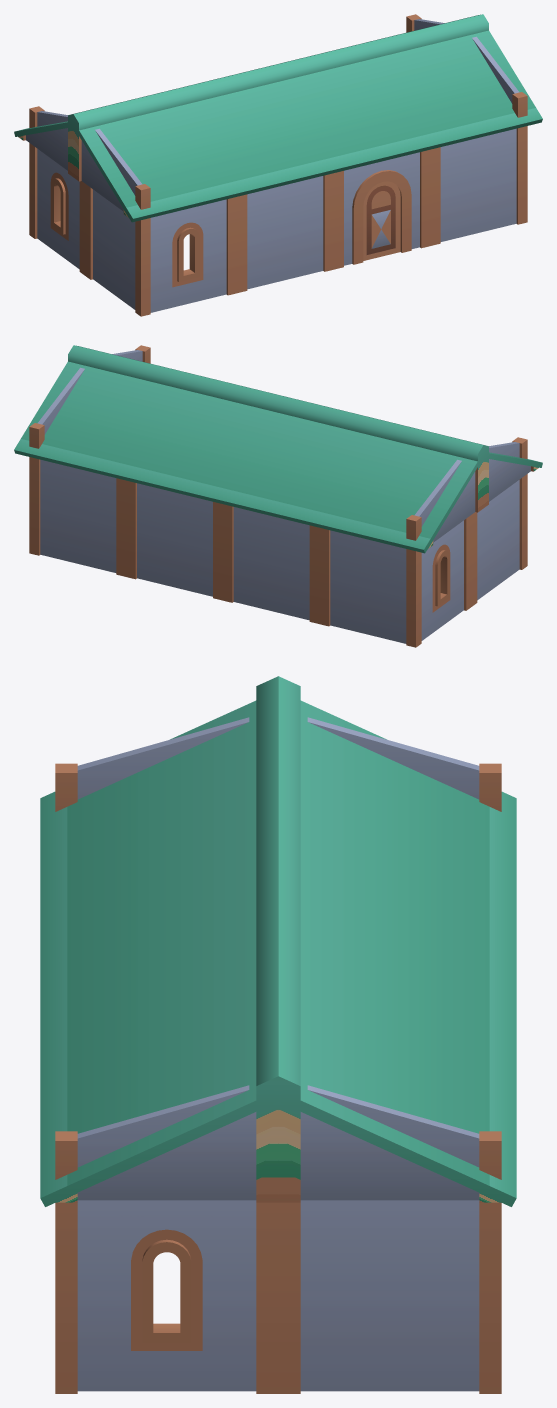
Rendered from maison-atlante-3.glb.
3 renders of one model, top to bottom at view 1: azimuth 30°, elevation 25°; view 2: azimuth 150°, elevation 25°; view 3: azimuth 270°, elevation 25°, orthographic. The views are drawn at different scales.
Visible parts, largest first — view 1: wall-window-round; view 2: wall-window-round; view 3: wall-window-round.
Boxes of the visible parts, x1=… form: wall-window-round: x1=14, y1=14, x2=542, y2=316; wall-window-round: x1=14, y1=345, x2=542, y2=647; wall-window-round: x1=40, y1=676, x2=516, y2=1393.
Bounding box in the file's own units: 12.72 × 4.88 × 6.4.
Materials: 1 (1 with a texture image).
